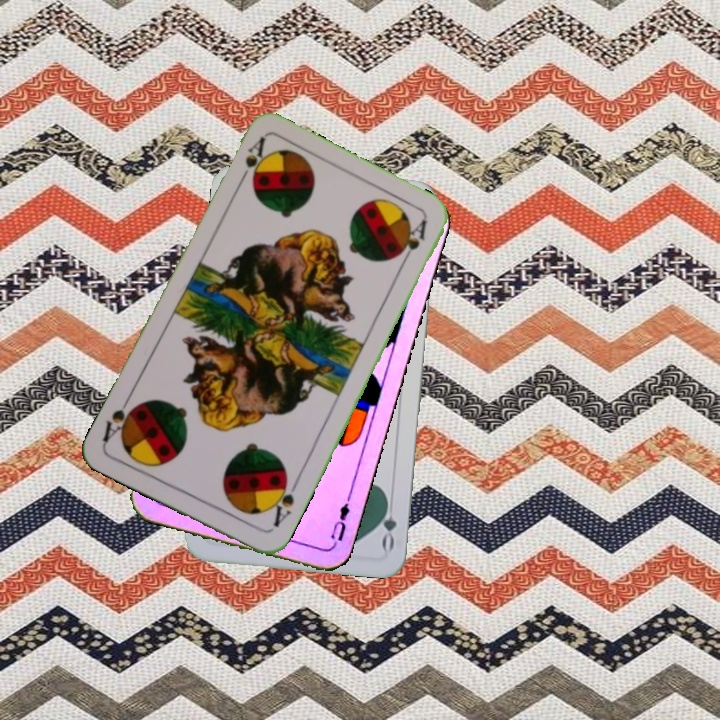EU: (323, 492, 354, 550)
GO: (377, 493, 399, 552)
SA: (265, 473, 301, 530), (234, 133, 269, 189)
